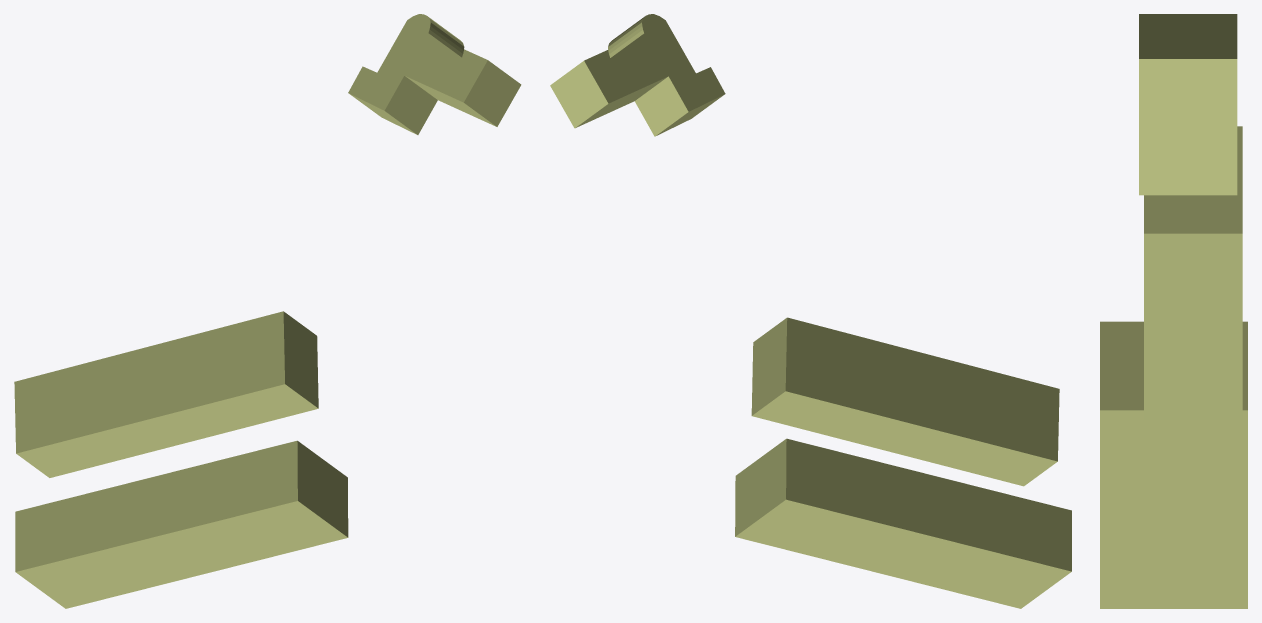
The picture shows the model from 3 angles, left to right: view 1: azimuth 30°, elevation 25°; view 2: azimuth 150°, elevation 25°; view 3: azimuth 270°, elevation 25°; orthographic projection. The views are drawn at different scales.
Visible parts, largest first — view 1: 0_3_2_0_3_2_1_1; view 2: 0_3_2_0_3_2_1_1; view 3: 0_3_2_0_3_2_1_1.
Part boxes in pixels (x1,y1,x2,y2): 0_3_2_0_3_2_1_1: (14, 14, 521, 608); 0_3_2_0_3_2_1_1: (550, 14, 1071, 608); 0_3_2_0_3_2_1_1: (1100, 14, 1247, 608).
Size of the model in its own units: 48.65 by 45.64 by 9.
